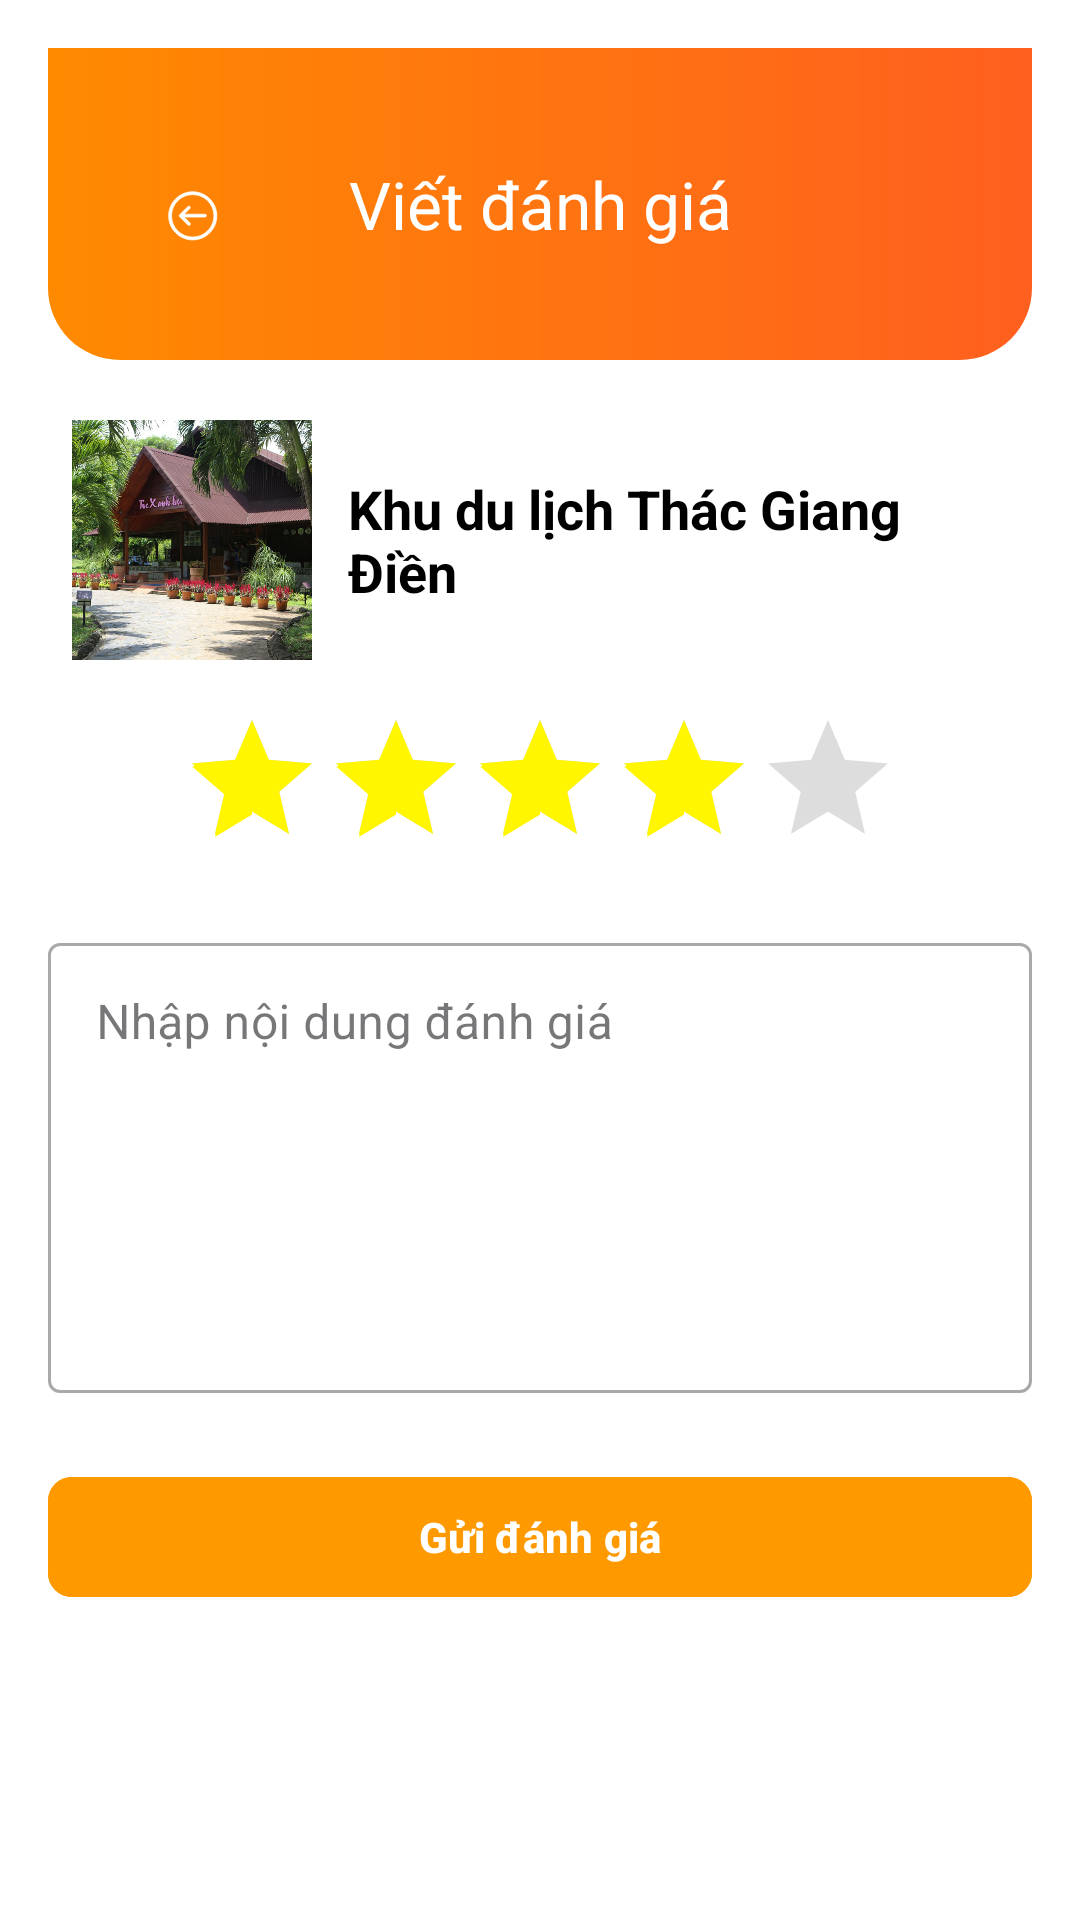

Locate icon controls on the screen. Image size 1080px x 1920px, boxes as bbox(x1, y1, x2, y2).
Ảnh địa điểm: bbox(72, 420, 312, 660)
